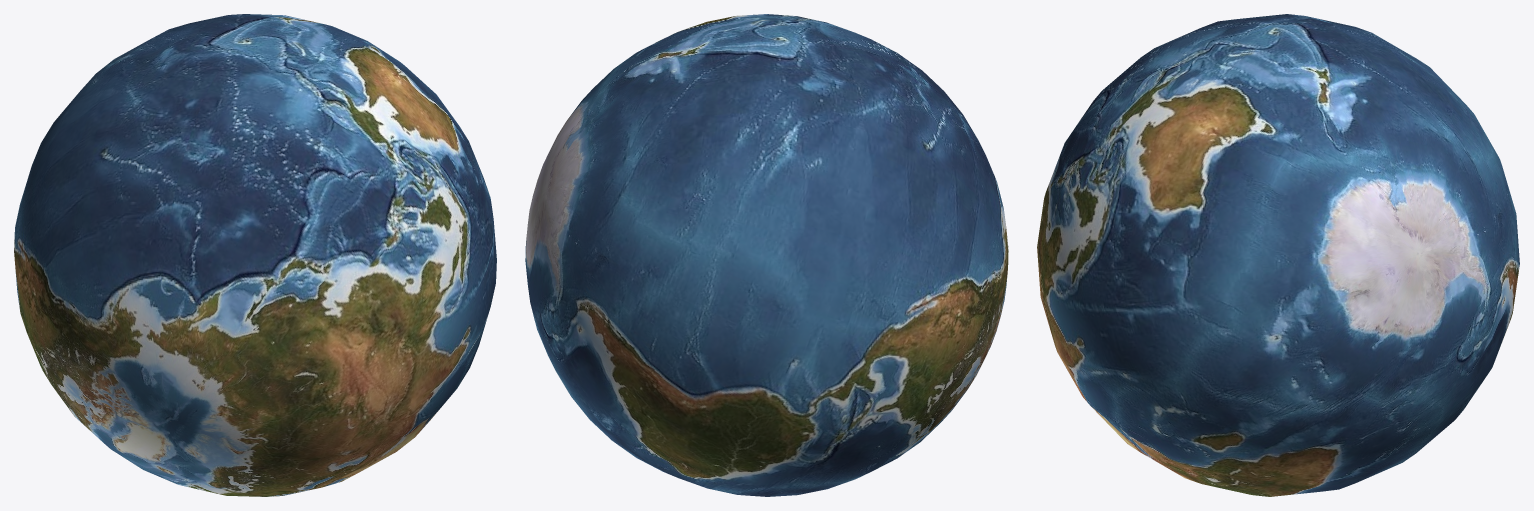
File: earth.gltf
3 renders of one model, left to right at view 1: azimuth 30°, elevation 25°; view 2: azimuth 150°, elevation 25°; view 3: azimuth 270°, elevation 25°, orthographic.
Parts seen in each view (by area): view 1: Sphere; view 2: Sphere; view 3: Sphere.
Part boxes in pixels (x1,y1,x2,y2): Sphere: [14, 14, 496, 496]; Sphere: [525, 14, 1008, 496]; Sphere: [1037, 14, 1519, 496].
Size of the model in its own units: 0.9987 by 0.9982 by 0.9987.
1 material, 1 textured.
